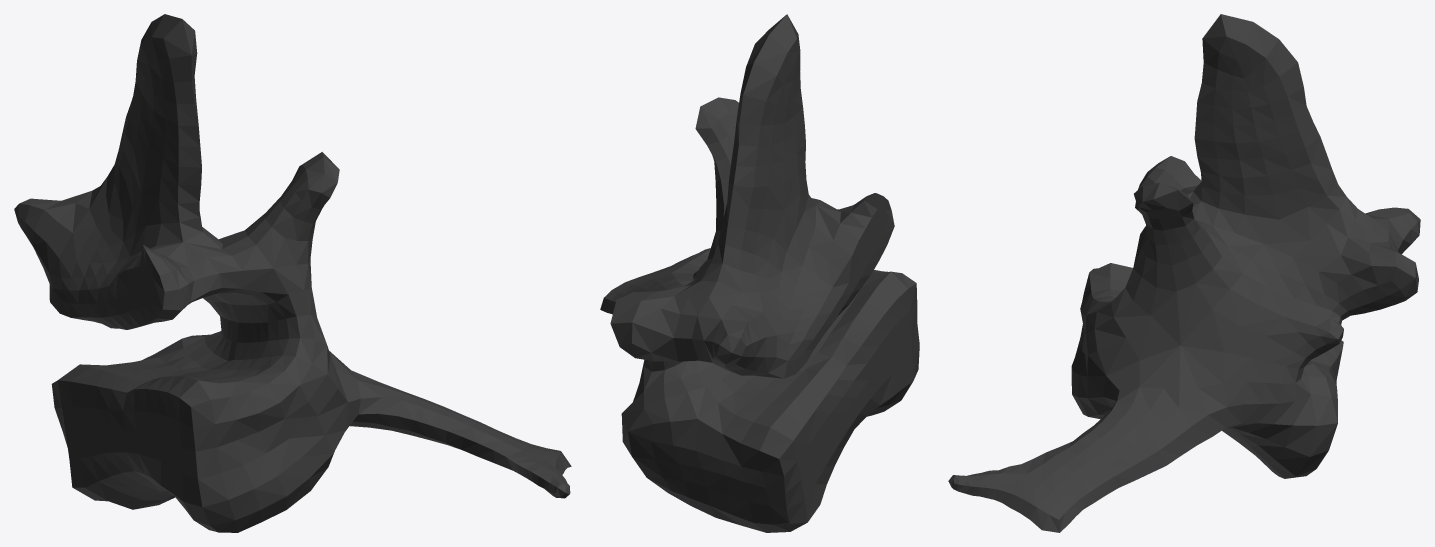
3 views of the same model, side by side, from view 1: azimuth 30°, elevation 25°; view 2: azimuth 150°, elevation 25°; view 3: azimuth 270°, elevation 25° (orthographic). The views are drawn at different scales.
Visible parts, largest first — view 1: L4; view 2: L4; view 3: L4.
Boxes of the visible parts, x1,y1,x2,y2 form: L4: (14, 14, 571, 532); L4: (600, 14, 919, 532); L4: (948, 14, 1420, 532).
Size of the model in its own units: 0.0115 by 0.0157 by 0.015.
Materials: 1 (1 with a texture image).
